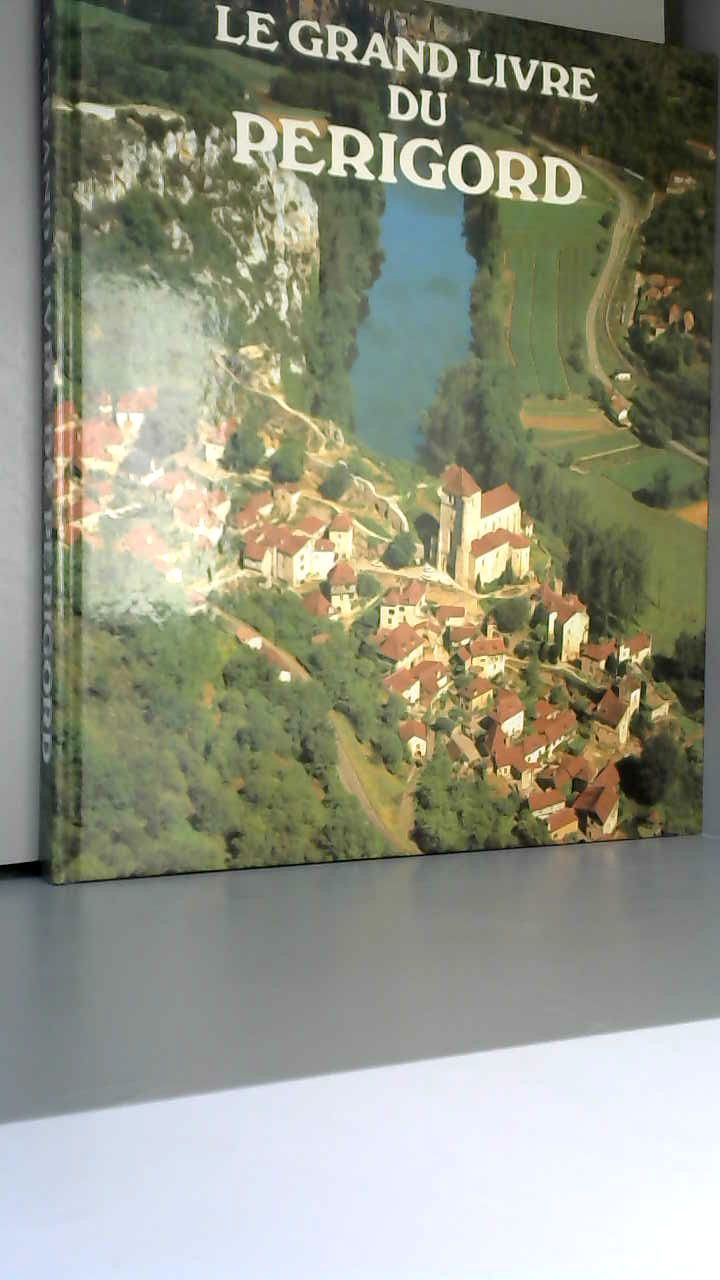book: (0, 0, 708, 901)
